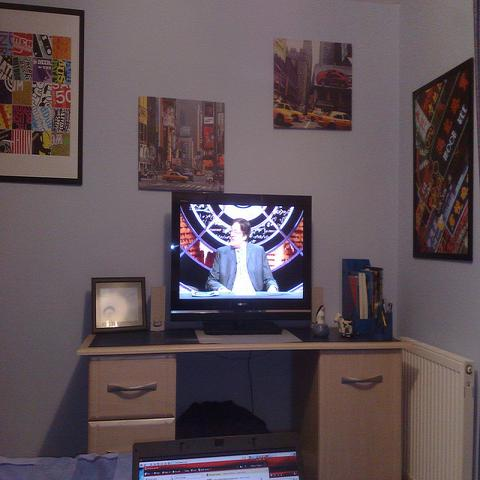car: (315, 110, 352, 130), (306, 108, 323, 122)
